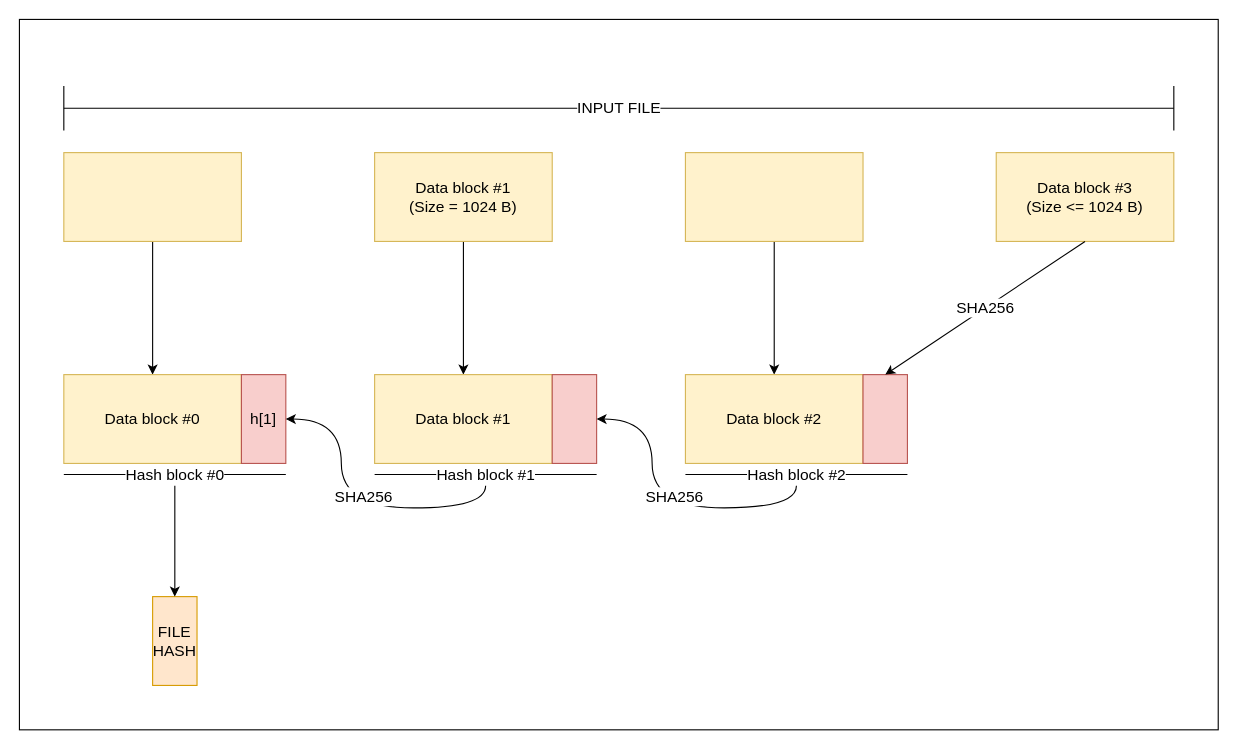
Image size: 1238x749. Some labels were removed from this diagram. The box of each missing label's shape, as (x1, y1, x2, y2) in pixels:
Data block #0 (Size = 1024 B): (63, 152, 241, 241)
Data block #2 (Size = 1024 B): (684, 152, 863, 241)
h[2]: (551, 374, 597, 463)
h[3]: (862, 374, 907, 463)
